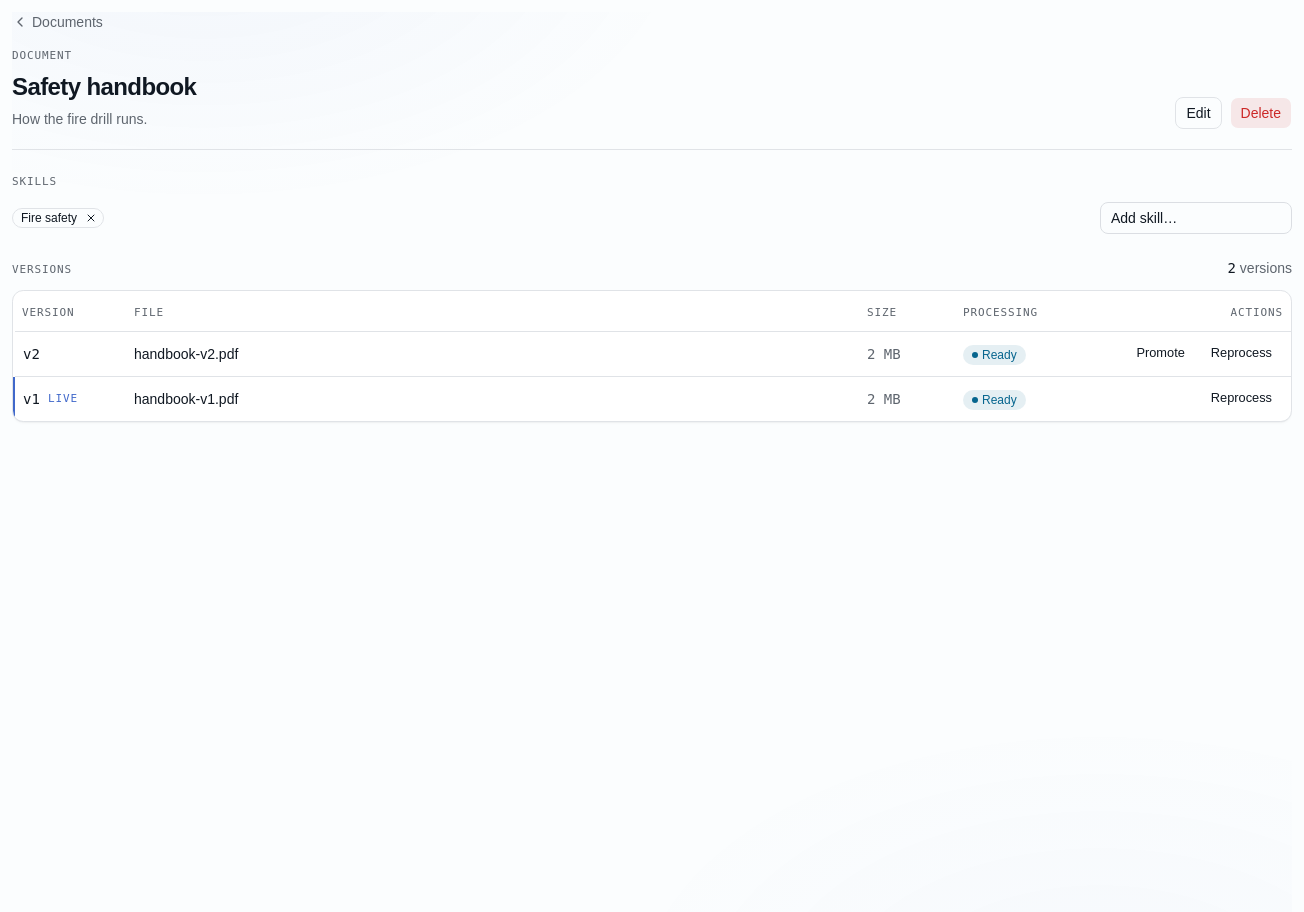
Scenario: DocumentDetailPage › surfaces a refused promote
expect the heading "Safety handbook" is shown: met, box x1=12 y1=70 x2=196 y2=102
What coordinates should you click on to do the following:
click the button "Promote"
I would click on:
 (1161, 354)
Its box is x1=1126 y1=340 x2=1196 y2=368.
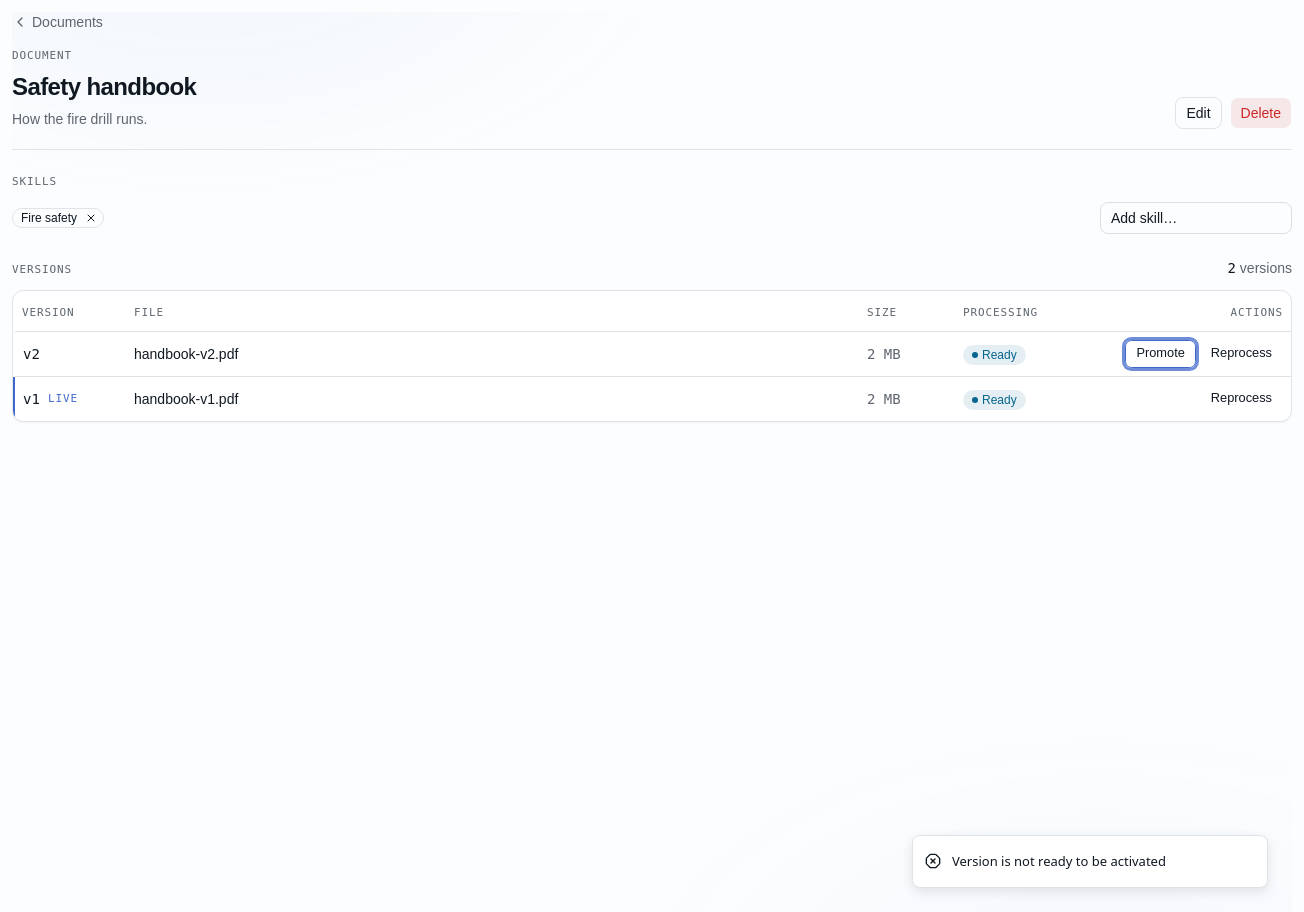
expect the text "Live" is shown: met, box x1=48 y1=391 x2=78 y2=406
expect the text "Version is not ready to be activated" is shown: met, box x1=952 y1=852 x2=1166 y2=871
